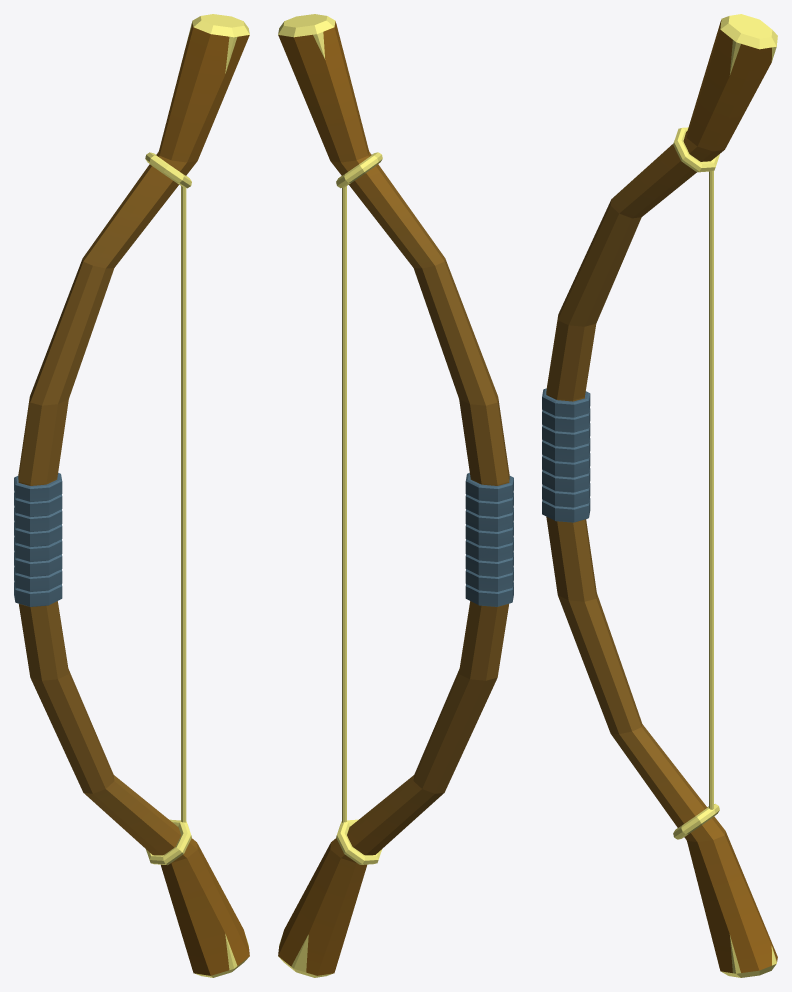
File: bow_1.glb
3 renders of one model, left to right at view 1: azimuth 30°, elevation 25°; view 2: azimuth 150°, elevation 25°; view 3: azimuth 330°, elevation 25°, orthographic.
Visible parts, largest first — view 1: bow_1; view 2: bow_1; view 3: bow_1.
Boxes of the visible parts, box(x1,y1,x2,y2) form: bow_1: box(14, 14, 249, 977); bow_1: box(278, 14, 513, 977); bow_1: box(542, 14, 777, 977).
Bounding box in the file's own units: 0.2439 × 0.954 × 0.05.
Materials: 1 (1 with a texture image).
